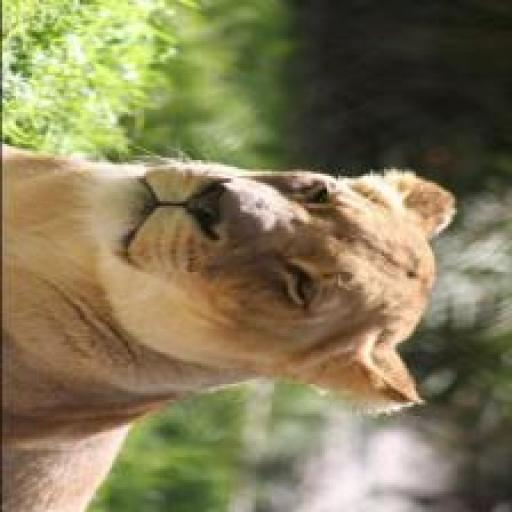lion: (2, 144, 470, 512)
